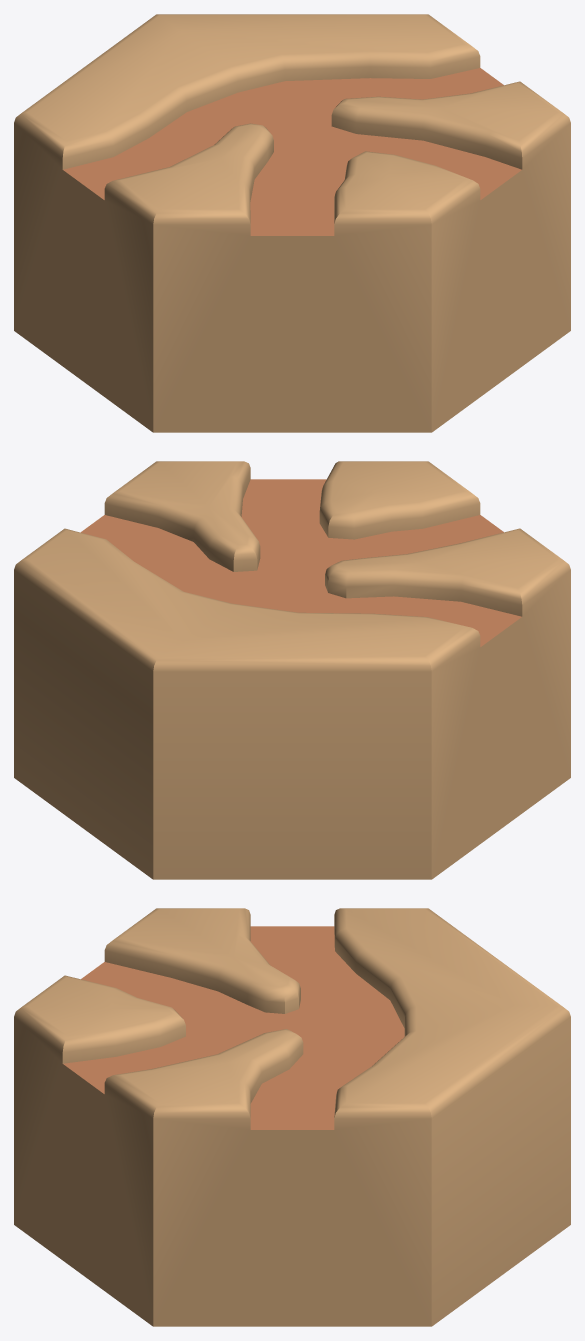
The model's file is hex_sand_roadK.glb.
The picture shows the model from 3 angles, top to bottom: view 1: azimuth 30°, elevation 25°; view 2: azimuth 150°, elevation 25°; view 3: azimuth 270°, elevation 25°; orthographic projection.
Visible parts, largest first — view 1: hex_sand_roadK; view 2: hex_sand_roadK; view 3: hex_sand_roadK.
Part boxes in pixels (x1=…): hex_sand_roadK: x1=14, y1=14, x2=570, y2=432; hex_sand_roadK: x1=14, y1=461, x2=570, y2=879; hex_sand_roadK: x1=14, y1=908, x2=570, y2=1326.
Bounding box in the file's own units: 2.4 × 1.2 × 2.77.
